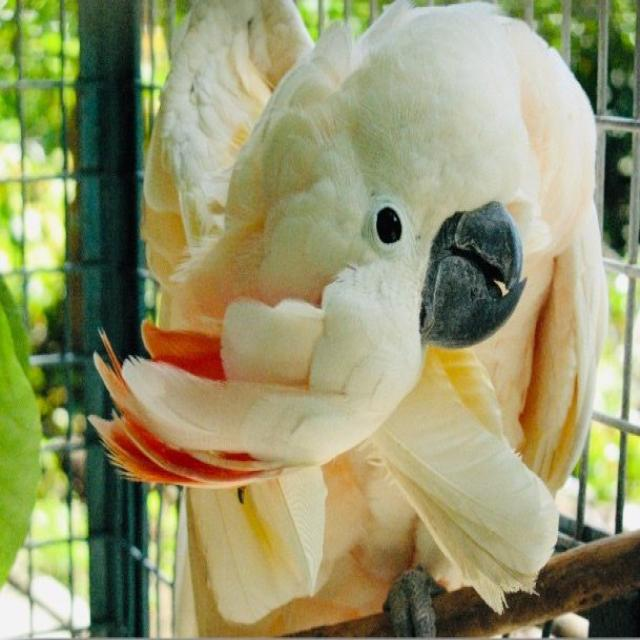Parrot: (121, 10, 606, 640)
